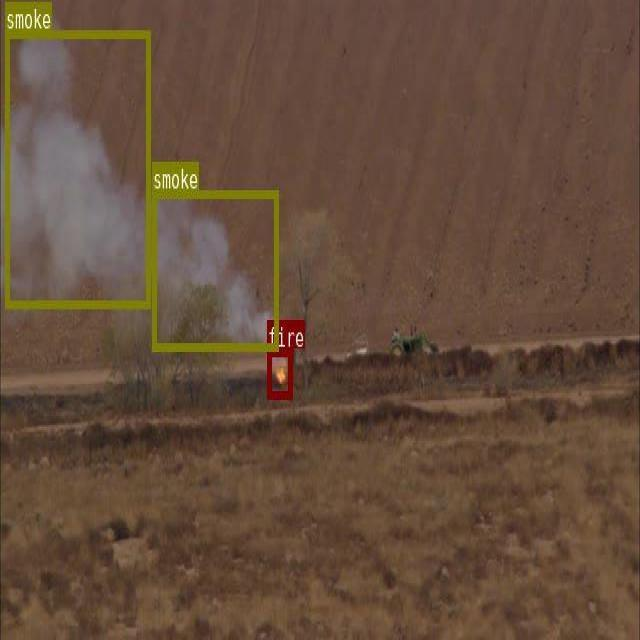fire: (267, 348, 292, 398)
smoke: (4, 30, 150, 307), (152, 190, 277, 349)
